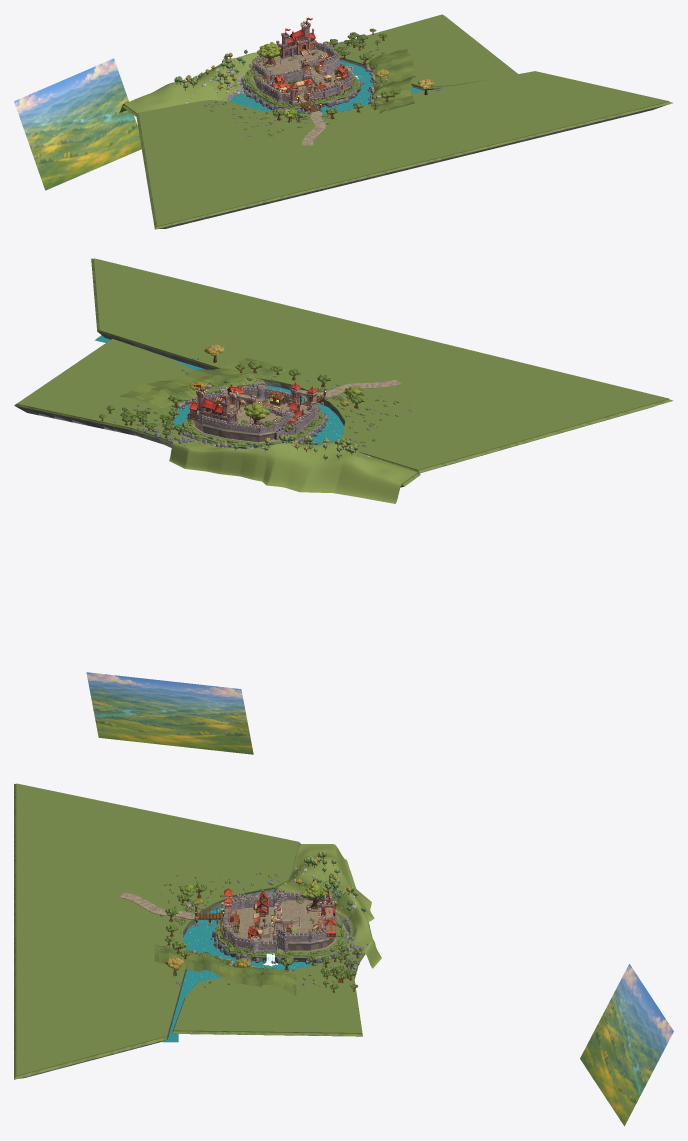
Rendered from castle.glb.
3 views of the same model, one above another, from view 1: azimuth 30°, elevation 25°; view 2: azimuth 150°, elevation 25°; view 3: azimuth 270°, elevation 25° (orthographic). The views are drawn at different scales.
Parts seen in each view (by area): view 1: object 1, Backdrop_远山与牧野绘景, C03, C01, C02; view 2: object 1, Backdrop_远山与牧野绘景, C03; view 3: object 1, Backdrop_远山与牧野绘景, C03.
Part boxes in pixels (<box>): object 1: <box>119,14,672,229</box>; Backdrop_远山与牧野绘景: <box>14,58,141,190</box>; C03: <box>276,17,316,58</box>; C01: <box>289,79,313,105</box>; C02: <box>300,54,326,77</box>; object 1: <box>14,258,673,503</box>; Backdrop_远山与牧野绘景: <box>86,672,253,754</box>; C03: <box>187,384,237,428</box>; object 1: <box>14,783,381,1079</box>; Backdrop_远山与牧野绘景: <box>580,964,673,1126</box>; C03: <box>313,890,336,938</box>.
Bounding box in the file's own units: 111 × 43.86 × 105.
30 materials, 6 textured.
